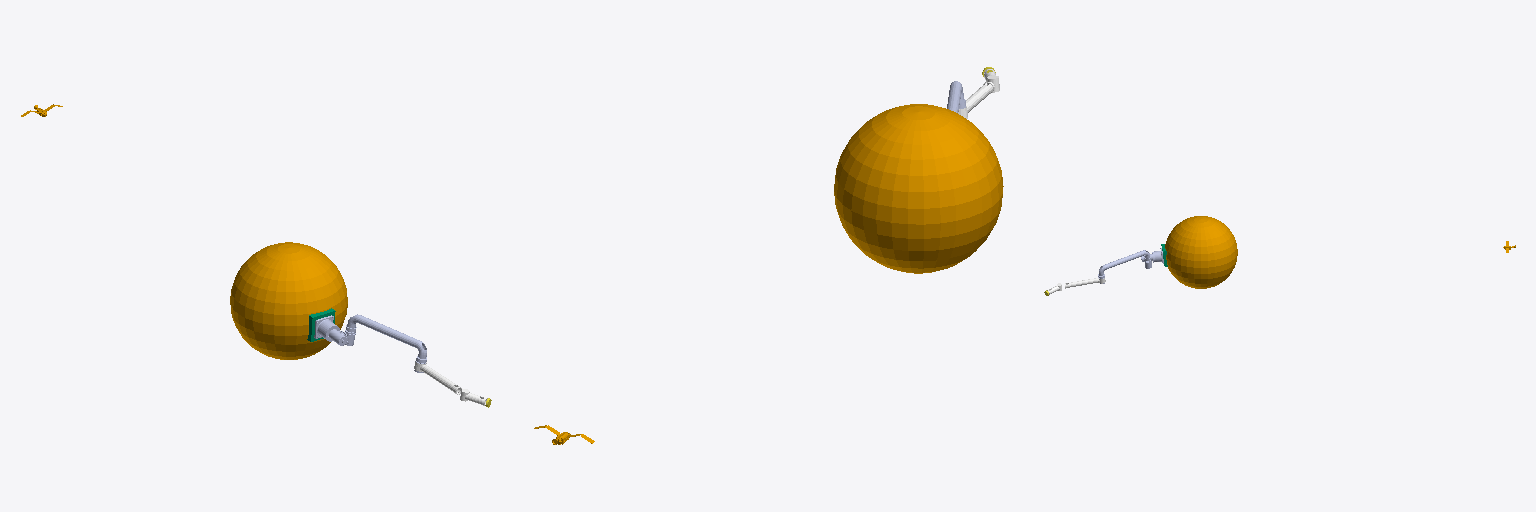
robot.urdf — satellite_16__starlink_sldasm9:
<?xml version='1.0' encoding='utf-8'?>
<robot name="satellite_16__starlink_sldasm9">
  <link name="base_link">
    <visual>
      <geometry>
        <mesh filename="../satellites/satellite_16/satellite.stl" />
      </geometry>
    </visual>
    <collision>
      <geometry>
        <mesh filename="../satellites/satellite_16/satellite.stl" />
      </geometry>
    </collision>
  </link>
  <link name="satellite_16_mount" />
  <joint name="satellite_mount_fixed" type="fixed">
    <parent link="base_link" />
    <child link="satellite_16_mount" />
    <origin xyz="0.054587137540405395 -7.8260790473016195 -0.05458727652902946" rpy="3.1415926535897922 -1.473089441440349 -1.4726166555900306" />
  </joint>
  <link name="mount_support">
    <visual>
      <geometry>
        <mesh filename="../satellites/satellite_16/mount_support.stl" />
      </geometry>
    </visual>
    <collision>
      <geometry>
        <mesh filename="../satellites/satellite_16/mount_support.stl" />
      </geometry>
    </collision>
  </link>
  <joint name="support_fixed" type="fixed">
    <parent link="satellite_16_mount" />
    <child link="mount_support" />
    <origin xyz="0 0 0" rpy="0 0 0" />
  </joint>
  <joint name="arm_adapter_fixed" type="fixed">
    <parent link="satellite_16_mount" />
    <child link="starlink_space_manipulator_base_link" />
    <origin xyz="0.009087204933166504 0.008519247174263 0.16000000119209382" rpy="-1.5707963267948966 0 0.0" />
  </joint>
  <link name="starlink_space_manipulator_base_link">
    <inertial>
      <origin xyz="-0.00908719924946466 0.0225428225681148 -0.00851924929637313" rpy="0 0 0" />
      <mass value="8.66024015898073" />
      <inertia ixx="0.0960303512697639" ixy="1.65511904636803E-18" ixz="6.22039820639877E-19" iyy="0.103454922260914" iyz="-9.68471289978311E-19" izz="0.0960303512697639" />
    </inertial>
    <visual>
      <origin xyz="0 0 0" rpy="0 0 0" />
      <geometry>
        <mesh filename="../arms/starlink_sldasm9/meshes/starlink_space_manipulator_base_link.STL" />
      </geometry>
      <material name="">
        <color rgba="0.792156862745098 0.819607843137255 0.933333333333333 1" />
      </material>
    </visual>
    <collision>
      <origin xyz="0 0 0" rpy="0 0 0" />
      <geometry>
        <mesh filename="../arms/starlink_sldasm9/meshes/starlink_space_manipulator_base_link.STL" />
      </geometry>
    </collision>
  </link>
  <link name="starlink_space_manipulator_Shoulder_link_1">
    <inertial>
      <origin xyz="-0.000399471745595769 -0.100006574194712 -0.17423940484461" rpy="0 0 0" />
      <mass value="5.16309216784981" />
      <inertia ixx="0.0524543852135592" ixy="0.00348154867667969" ixz="6.96526910910627E-05" iyy="0.0306595326318824" iyz="-0.00056674368052247" izz="0.0439979075615329" />
    </inertial>
    <visual>
      <origin xyz="0 0 0" rpy="0 0 0" />
      <geometry>
        <mesh filename="../arms/starlink_sldasm9/meshes/starlink_space_manipulator_Shoulder_link_1.STL" />
      </geometry>
      <material name="">
        <color rgba="0.792156862745098 0.819607843137255 0.933333333333333 1" />
      </material>
    </visual>
    <collision>
      <origin xyz="0 0 0" rpy="0 0 0" />
      <geometry>
        <mesh filename="../arms/starlink_sldasm9/meshes/starlink_space_manipulator_Shoulder_link_1.STL" />
      </geometry>
    </collision>
  </link>
  <joint name="starlink_space_manipulator_Shoulder_link_1_yaw" type="revolute">
    <origin xyz="-0.0090872 -0.065 -0.0085192" rpy="1.5708 -0.15574 3.1416" />
    <parent link="starlink_space_manipulator_base_link" />
    <child link="starlink_space_manipulator_Shoulder_link_1" />
    <axis xyz="0 0 -1" />
    <limit lower="-3.14" upper="3.14" effort="0" velocity="0" />
  </joint>
  <link name="starlink_space_manipulator_Upper_arm_Link_1">
    <inertial>
      <origin xyz="0.402106341472203 -0.696465272634528 -0.170177523085579" rpy="0 0 0" />
      <mass value="5.05309869040685" />
      <inertia ixx="0.388719013133801" ixy="0.210155896498943" ixz="9.30829370680679E-08" iyy="0.146049057575642" iyz="1.71830458004218E-07" izz="0.500677708275447" />
    </inertial>
    <visual>
      <origin xyz="0 0 0" rpy="0 0 0" />
      <geometry>
        <mesh filename="../arms/starlink_sldasm9/meshes/starlink_space_manipulator_Upper_arm_Link_1.STL" />
      </geometry>
      <material name="">
        <color rgba="0.792156862745098 0.819607843137255 0.933333333333333 1" />
      </material>
    </visual>
    <collision>
      <origin xyz="0 0 0" rpy="0 0 0" />
      <geometry>
        <mesh filename="../arms/starlink_sldasm9/meshes/starlink_space_manipulator_Upper_arm_Link_1.STL" />
      </geometry>
    </collision>
  </link>
  <joint name="starlink_space_manipulator_Upper_arm_Link_1_roll" type="revolute">
    <origin xyz="0 -0.2 -0.18" rpy="1.5708 0.90646 1.5708" />
    <parent link="starlink_space_manipulator_Shoulder_link_1" />
    <child link="starlink_space_manipulator_Upper_arm_Link_1" />
    <axis xyz="0 0 -1" />
    <limit lower="-2" upper="1.5" effort="0" velocity="0" />
  </joint>
  <link name="starlink_space_manipulator_Mid_arm_Link_1">
    <inertial>
      <origin xyz="-0.000406052776441013 0.317722269561105 0.0155331755135703" rpy="0 0 0" />
      <mass value="1.57635531881168" />
      <inertia ixx="0.133610363618846" ixy="5.33750993405138E-05" ixz="-3.60473795202962E-09" iyy="0.00502119434334708" iyz="-2.514275749911E-05" izz="0.134586018527477" />
    </inertial>
    <visual>
      <origin xyz="0 0 0" rpy="0 0 0" />
      <geometry>
        <mesh filename="../arms/starlink_sldasm9/meshes/starlink_space_manipulator_Mid_arm_Link_1.STL" />
      </geometry>
      <material name="">
        <color rgba="1 1 1 1" />
      </material>
    </visual>
    <collision>
      <origin xyz="0 0 0" rpy="0 0 0" />
      <geometry>
        <mesh filename="../arms/starlink_sldasm9/meshes/starlink_space_manipulator_Mid_arm_Link_1.STL" />
      </geometry>
    </collision>
  </link>
  <joint name="starlink_space_manipulator_Mid_arm_Link_1_roll" type="revolute">
    <origin xyz="0.599999999999673 -1.03923048454122 0" rpy="-3.14159265358979 0 0.828250280535091" />
    <parent link="starlink_space_manipulator_Upper_arm_Link_1" />
    <child link="starlink_space_manipulator_Mid_arm_Link_1" />
    <axis xyz="0 0 -1" />
    <limit lower="-3.14" upper="3.14" effort="0" velocity="0" />
  </joint>
  <link name="starlink_space_manipulator_Upper_wrist_Link_1">
    <inertial>
      <origin xyz="-0.000400003664721815 -0.201565878030355 -0.00216705855311664" rpy="0 0 0" />
      <mass value="0.994770641034713" />
      <inertia ixx="0.00165409639029414" ixy="-7.59103925411082E-06" ixz="-3.17403155320863E-06" iyy="0.00201437937768072" iyz="2.63246464091218E-06" izz="0.00159638838344539" />
    </inertial>
    <visual>
      <origin xyz="0 0 0" rpy="0 0 0" />
      <geometry>
        <mesh filename="../arms/starlink_sldasm9/meshes/starlink_space_manipulator_Upper_wrist_Link_1.STL" />
      </geometry>
      <material name="">
        <color rgba="0.792156862745098 0.819607843137255 0.933333333333333 1" />
      </material>
    </visual>
    <collision>
      <origin xyz="0 0 0" rpy="0 0 0" />
      <geometry>
        <mesh filename="../arms/starlink_sldasm9/meshes/starlink_space_manipulator_Upper_wrist_Link_1.STL" />
      </geometry>
    </collision>
  </link>
  <joint name="starlink_space_manipulator_Upper_wrist_Link_1_yaw" type="revolute">
    <origin xyz="-0.00050155183276912 0.686793643713439 0.0155010481432086" rpy="0 -0.0763876794035917 3.14159265358979" />
    <parent link="starlink_space_manipulator_Mid_arm_Link_1" />
    <child link="starlink_space_manipulator_Upper_wrist_Link_1" />
    <axis xyz="0 -1 0" />
    <limit lower="-3.14" upper="3.14" effort="0" velocity="0" />
  </joint>
  <link name="starlink_space_manipulator_Upper_wrist_Link_2">
    <inertial>
      <origin xyz="8.45304168883843E-08 0.0848318719623631 -0.00515657391755576" rpy="0 0 0" />
      <mass value="1.03716823037577" />
      <inertia ixx="0.0100970561498589" ixy="1.32295633551837E-09" ixz="-9.43675929999229E-09" iyy="0.00222325407426665" iyz="-2.08772874866187E-06" izz="0.0105840577017538" />
    </inertial>
    <visual>
      <origin xyz="0 0 0" rpy="0 0 0" />
      <geometry>
        <mesh filename="../arms/starlink_sldasm9/meshes/starlink_space_manipulator_Upper_wrist_Link_2.STL" />
      </geometry>
      <material name="">
        <color rgba="1 1 1 1" />
      </material>
    </visual>
    <collision>
      <origin xyz="0 0 0" rpy="0 0 0" />
      <geometry>
        <mesh filename="../arms/starlink_sldasm9/meshes/starlink_space_manipulator_Upper_wrist_Link_2.STL" />
      </geometry>
    </collision>
  </link>
  <joint name="starlink_space_manipulator_Upper_wrist_Link_2_roll" type="revolute">
    <origin xyz="0 -0.30020635628656 0" rpy="-0.0158640776811277 -0.0317448426184613 -2.67805461574742" />
    <parent link="starlink_space_manipulator_Upper_wrist_Link_1" />
    <child link="starlink_space_manipulator_Upper_wrist_Link_2" />
    <axis xyz="0 0 1" />
    <limit lower="-2.5" upper="1.8" effort="0" velocity="0" />
  </joint>
  <link name="starlink__space_manipulator_2F-Body_Link">
    </link>
  <joint name="starlink__space_manipulator_2F-Body_Link_yaw" type="revolute">
    <origin xyz="0 0.34845 -0.0053813" rpy="-3.1416 0.93592 0" />
    <parent link="starlink_space_manipulator_Upper_wrist_Link_2" />
    <child link="starlink__space_manipulator_2F-Body_Link" />
    <axis xyz="0 -1 0" />
    <limit lower="-3.14" upper="3.14" effort="0" velocity="0" />
  </joint>
  <link name="angular_hand">
    <visual>
      <geometry>
        <mesh filename="../arms/starlink_sldasm9/meshes/hand_2finger.STL" scale="2 2 2" />
      </geometry>
    </visual>
    <collision>
      <geometry>
        <mesh filename="../arms/starlink_sldasm9/meshes/hand_2finger.STL" scale="2 2 2" />
      </geometry>
    </collision>
  </link>
  <joint name="angular_hand_fixed" type="fixed">
    <parent link="starlink__space_manipulator_2F-Body_Link" />
    <child link="angular_hand" />
    <origin xyz="0 -0.036 0" rpy="-1.5707963267948966 0 0" />
  </joint>
  <link name="angular_adapter">
    <visual>
      <geometry>
        <mesh filename="../arms/starlink_sldasm9/meshes/angular_adapter.stl" />
      </geometry>
    </visual>
    <collision>
      <geometry>
        <mesh filename="../arms/starlink_sldasm9/meshes/angular_adapter.stl" />
      </geometry>
    </collision>
  </link>
  <joint name="angular_adapter_fixed" type="fixed">
    <parent link="starlink__space_manipulator_2F-Body_Link" />
    <child link="angular_adapter" />
    <origin xyz="0 -0.0005 0" rpy="1.5707963267948966 0 0" />
  </joint>
  <link name="angular_finger_1">
    <visual>
      <geometry>
        <mesh filename="../arms/starlink_sldasm9/meshes/finger_proximal.STL" scale="2 2 2" />
      </geometry>
    </visual>
    <collision>
      <geometry>
        <mesh filename="../arms/starlink_sldasm9/meshes/finger_proximal.STL" scale="2 2 2" />
      </geometry>
    </collision>
  </link>
  <link name="angular_tip_1">
    <visual>
      <geometry>
        <mesh filename="../arms/starlink_sldasm9/meshes/finger_distal.STL" scale="2 2 2" />
      </geometry>
    </visual>
    <collision>
      <geometry>
        <mesh filename="../arms/starlink_sldasm9/meshes/finger_distal.STL" scale="2 2 2" />
      </geometry>
    </collision>
  </link>
  <joint name="angular_joint_1" type="revolute">
    <parent link="angular_hand" />
    <child link="angular_finger_1" />
    <axis xyz="0 0 1" />
    <origin xyz="-0.005 0.0619 -0.22964" rpy="-1.570796327 .649262481663582 1.5707963267948966" />
    <limit lower="0" upper="1.51" effort="2" velocity="1" />
  </joint>
  <joint name="angular_joint_tip_1" type="revolute">
    <parent link="angular_finger_1" />
    <child link="angular_tip_1" />
    <axis xyz="0 0 1" />
    <origin xyz="0.088 -0.006 0.0" rpy="0 0 0" />
    <limit lower="0" upper="2" effort="2" velocity="1" />
  </joint>
  <link name="angular_finger_2">
    <visual>
      <geometry>
        <mesh filename="../arms/starlink_sldasm9/meshes/finger_proximal.STL" scale="2 2 2" />
      </geometry>
    </visual>
    <collision>
      <geometry>
        <mesh filename="../arms/starlink_sldasm9/meshes/finger_proximal.STL" scale="2 2 2" />
      </geometry>
    </collision>
  </link>
  <link name="angular_tip_2">
    <visual>
      <geometry>
        <mesh filename="../arms/starlink_sldasm9/meshes/finger_distal.STL" scale="2 2 2" />
      </geometry>
    </visual>
    <collision>
      <geometry>
        <mesh filename="../arms/starlink_sldasm9/meshes/finger_distal.STL" scale="2 2 2" />
      </geometry>
    </collision>
  </link>
  <joint name="angular_joint_2" type="revolute">
    <parent link="angular_hand" />
    <child link="angular_finger_2" />
    <axis xyz="0 0 1" />
    <origin xyz="-0.005 -0.0619 -0.22964" rpy="-1.570796327 .649262481663582 -1.5707963267948966" />
    <limit lower="0" upper="1.51" effort="2" velocity="1" />
  </joint>
  <joint name="angular_joint_tip_2" type="revolute">
    <parent link="angular_finger_2" />
    <child link="angular_tip_2" />
    <axis xyz="0 0 1" />
    <origin xyz="0.088 -0.006 0.0" rpy="0 0 0" />
    <limit lower="0" upper="2" effort="2" velocity="1" />
  </joint>
  <link name="angular_tcp" />
  <joint name="angular_tcp_fixed" type="fixed">
    <parent link="angular_hand" />
    <child link="angular_tcp" />
    <origin xyz="-0.005 0 -0.34" rpy="3.141592653589793 0 0" />
  </joint>
</robot>

--- Render facts (derived) ---
3 views of the same robot in one strip: view 1: azimuth 30°, elevation 25°; view 2: azimuth 150°, elevation 25°; view 3: azimuth 270°, elevation 25° (orthographic).
Model satellite_16__starlink_sldasm9 with 17 links and 16 joints (10 revolute, 6 fixed), rooted at base_link, posed all joints at 0.
Visible links, largest first — view 1: base_link, starlink_space_manipulator_Upper_arm_Link_1; view 2: base_link; view 3: base_link.
Boxes of the visible links, x1,y1,x2,y2 form: base_link: (21, 104, 347, 359); starlink_space_manipulator_Upper_arm_Link_1: (347, 314, 426, 372); base_link: (534, 104, 1003, 444); base_link: (1165, 216, 1515, 288).
Bounding box of the posed robot: 2.13 × 10.73 × 1.67 m (x, y, z).
8 mesh visuals loaded from 12 distinct referenced files (8 binary STL); not drawn: 6 (reference not matched to a file when rendering).
